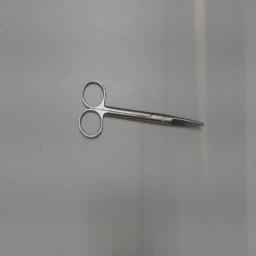Curved Mayo Scissors: (75, 74, 207, 144)
